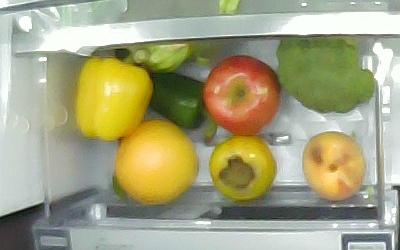apple: (204, 55, 280, 135)
broccoli: (276, 36, 375, 113)
grapefruit: (115, 119, 199, 206)
lettuce: (128, 41, 192, 69)
paprika: (75, 49, 153, 143), (148, 73, 217, 143)
peach: (302, 132, 366, 201)
persimmon: (210, 136, 276, 200)
